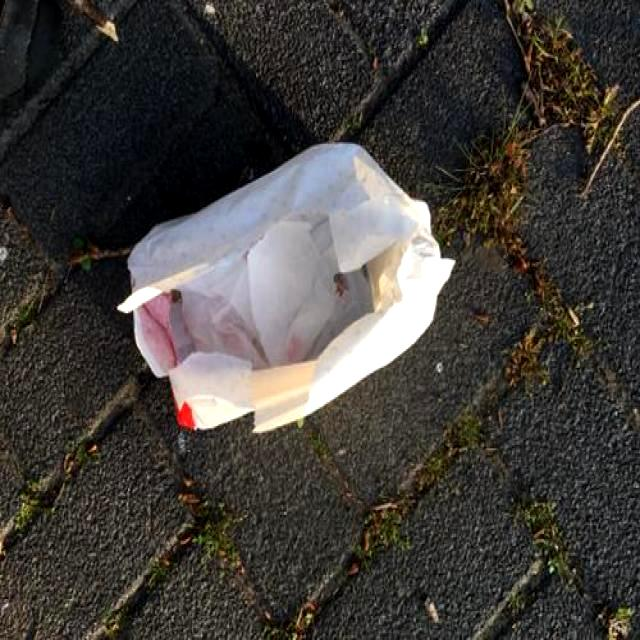Paper: (124, 140, 456, 436)
